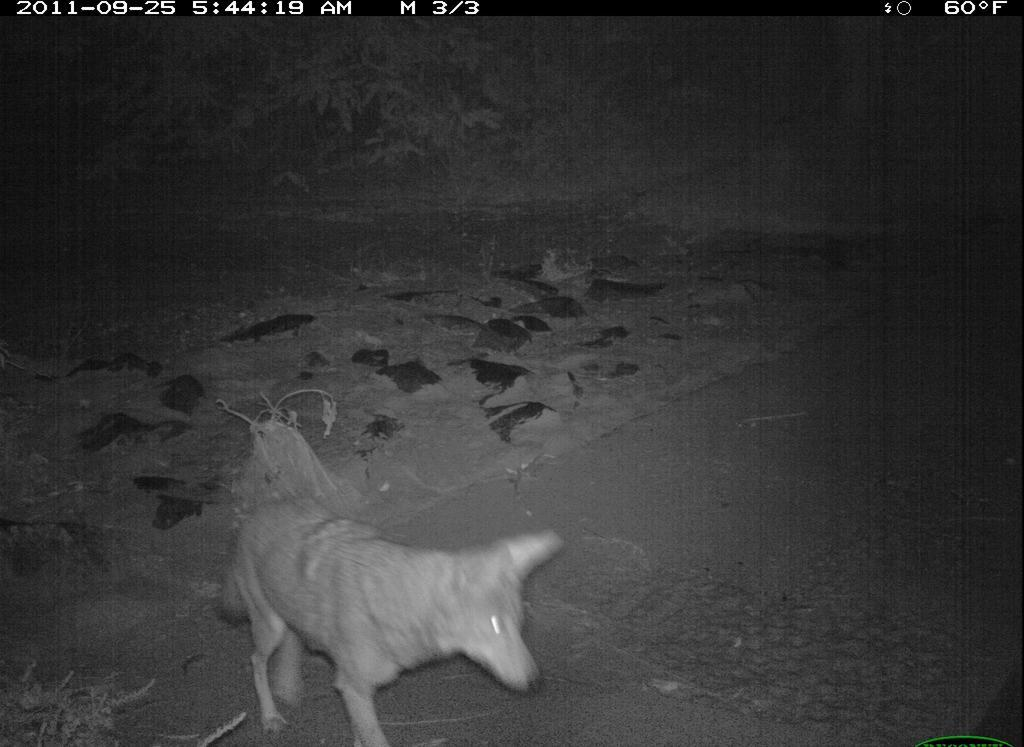coyote: (214, 484, 579, 747)
